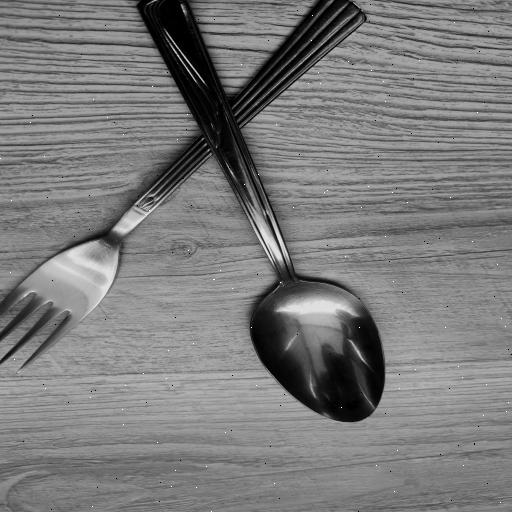fork: (0, 4, 367, 369)
spoon: (142, 0, 388, 426)
